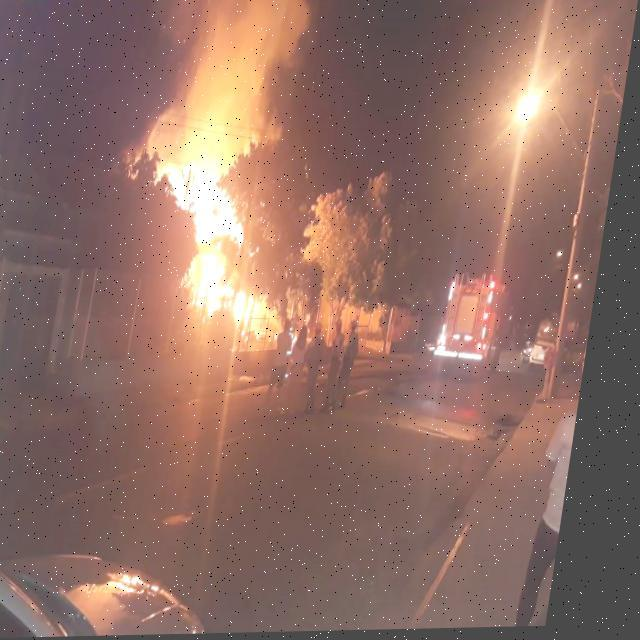Fire: (110, 0, 330, 351)
